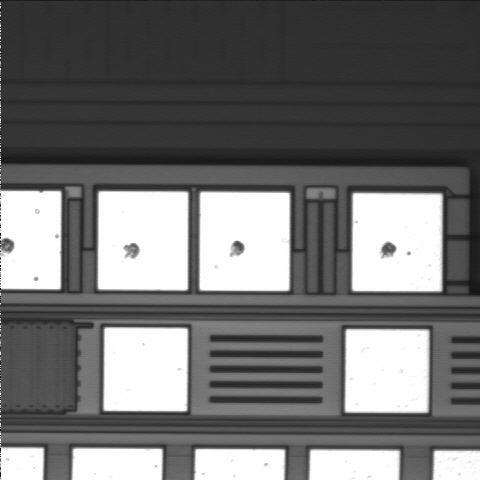pad: (98, 191, 188, 290), (200, 192, 290, 291), (352, 193, 442, 291), (345, 329, 429, 413), (104, 328, 188, 411)
